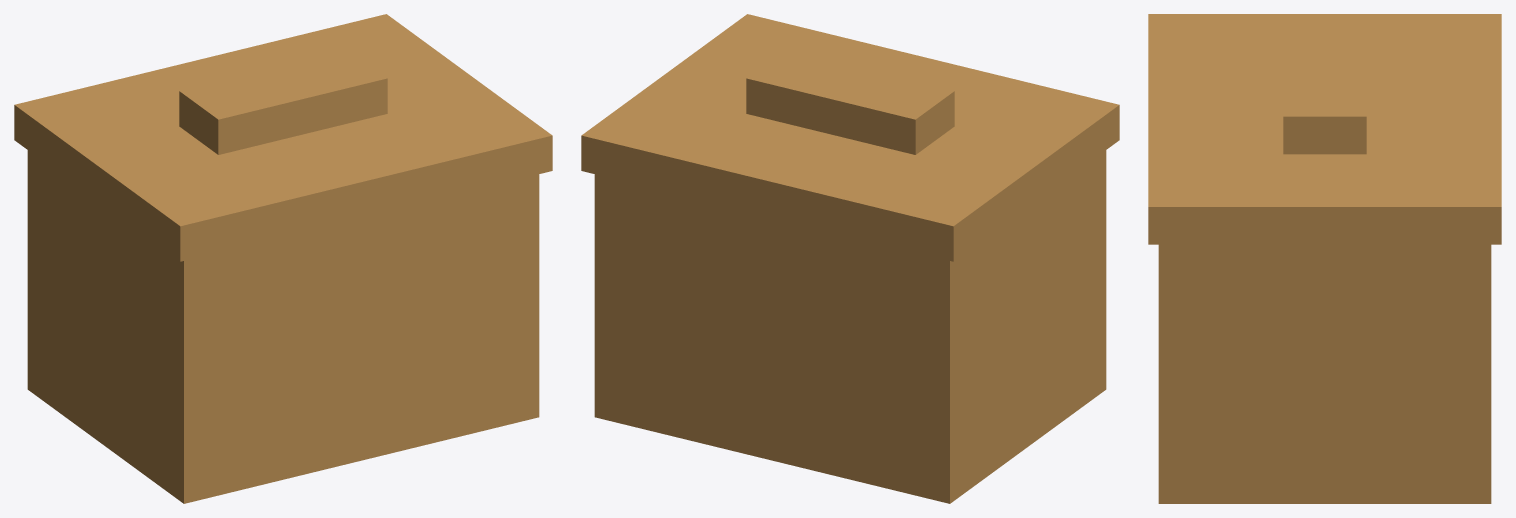
Rendered from product_skewer_carton.glb.
3 views of the same model, side by side, from view 1: azimuth 30°, elevation 25°; view 2: azimuth 150°, elevation 25°; view 3: azimuth 270°, elevation 25° (orthographic). The views are drawn at different scales.
Visible parts, largest first — view 1: product.skewer_carton; view 2: product.skewer_carton; view 3: product.skewer_carton.
Part boxes in pixels (x1,y1,x2,y2): product.skewer_carton: (14,14,552,503); product.skewer_carton: (581,14,1119,503); product.skewer_carton: (1148,14,1501,503).
Bounding box in the file's own units: 0.24 × 0.1964 × 0.1855.
